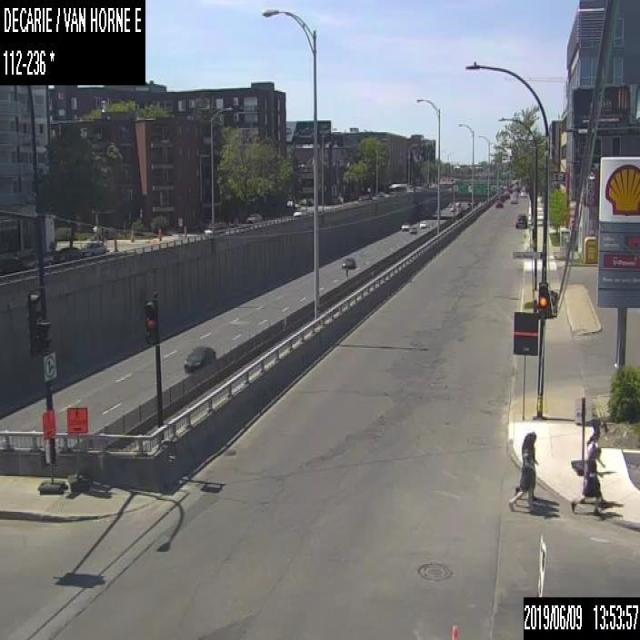bus: (388, 182, 406, 193)
construction: (37, 407, 66, 493), (66, 403, 88, 491), (571, 393, 590, 474), (449, 621, 457, 639)
pedestrian: (507, 429, 540, 512), (570, 439, 605, 516)
vehicle: (183, 345, 216, 371), (21, 249, 53, 268), (53, 246, 80, 262), (79, 241, 105, 255), (514, 212, 526, 228), (341, 256, 355, 268), (202, 221, 217, 232), (244, 213, 261, 222), (408, 224, 416, 232), (497, 193, 505, 200), (293, 208, 301, 215), (401, 222, 408, 230), (495, 200, 502, 207), (419, 220, 426, 227), (520, 189, 526, 196), (510, 195, 516, 202), (512, 190, 517, 197), (504, 191, 509, 197), (456, 200, 460, 207), (450, 204, 454, 211), (39, 251, 40, 252)
